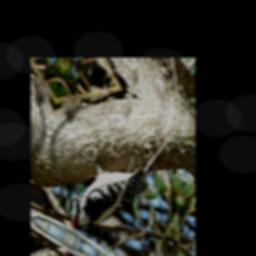Woodpecker: (67, 136, 146, 256)
